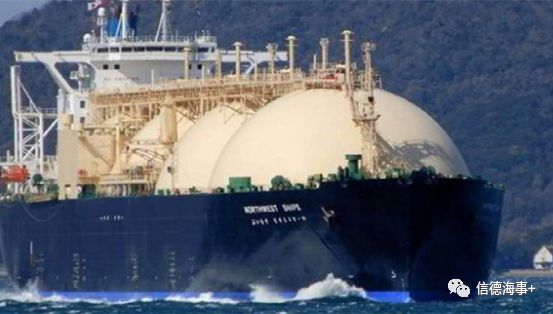Cargoship: (1, 22, 514, 290)
